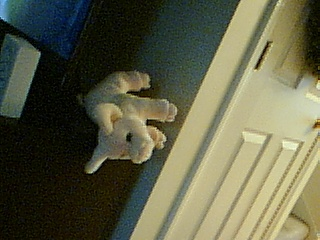piggy: (76, 68, 178, 176)
